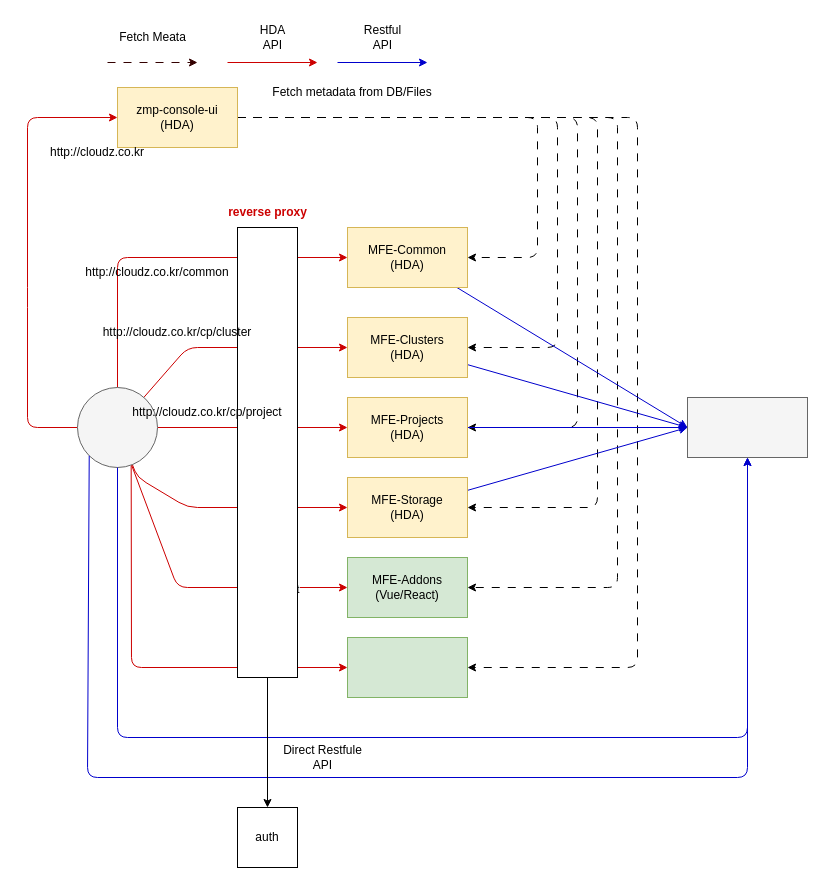
The diagram is 825 pixels wide and 885 high, and some of its shapes have lost their labels. Each missing label, with the centre of its shape:
"Backend-Upstream" goes at (747,427).
"Client (Browser)" goes at (117,427).
"ingress" goes at (267,452).
"MFE-IAM (Vue/React)" goes at (407,667).
